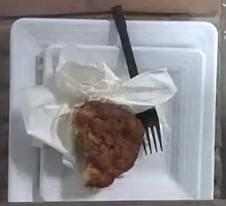dessert: (71, 99, 143, 186)
